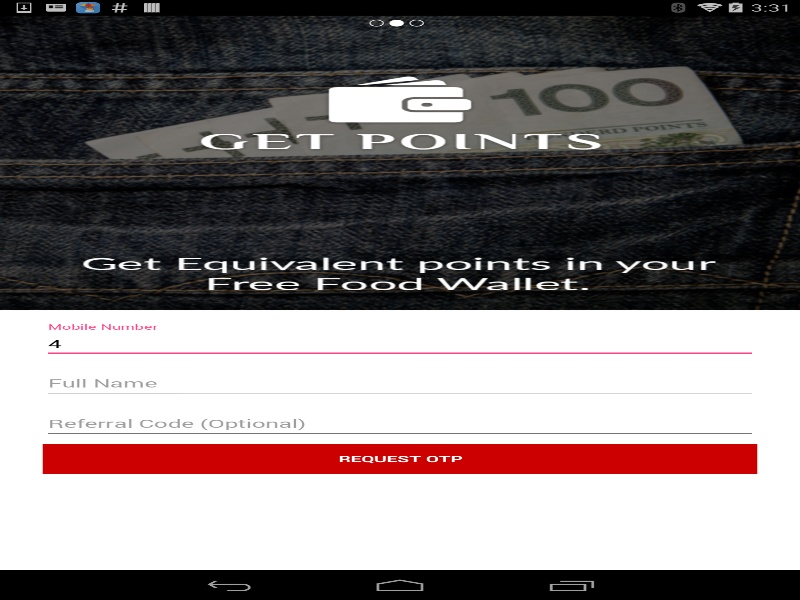Button: (42, 443, 757, 473)
Input: (42, 329, 757, 358), (42, 370, 757, 398), (42, 410, 757, 438)
